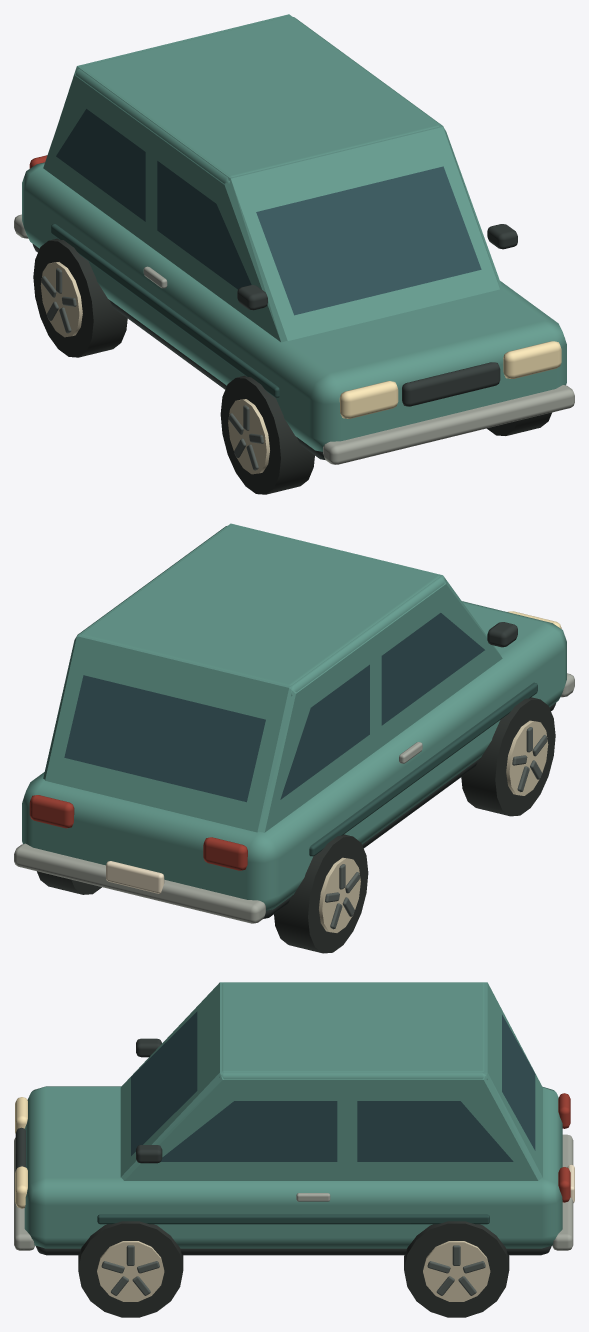
File: vehicle-hatchback.glb
3 renders of one model, top to bottom at view 1: azimuth 30°, elevation 25°; view 2: azimuth 150°, elevation 25°; view 3: azimuth 270°, elevation 25°, orthographic. The views are drawn at different scales.
Visible parts, largest first — view 1: Harbor vehicle hatchback, wheel--1-1, wheel--1--1, wheel-1-1; view 2: Harbor vehicle hatchback, wheel--1--1, wheel--1-1, wheel-1--1; view 3: Harbor vehicle hatchback, wheel-1-1, wheel-1--1.
Boxes of the visible parts, x1,y1,x2,y2 form: Harbor vehicle hatchback: [14, 14, 574, 464]; wheel--1-1: [220, 375, 314, 494]; wheel--1--1: [33, 238, 127, 357]; wheel-1-1: [487, 412, 552, 435]; Harbor vehicle hatchback: [14, 523, 574, 923]; wheel--1--1: [274, 834, 368, 953]; wheel--1-1: [461, 697, 555, 816]; wheel-1--1: [37, 871, 101, 894]; Harbor vehicle hatchback: [14, 982, 574, 1255]; wheel-1-1: [78, 1221, 183, 1317]; wheel-1--1: [404, 1221, 509, 1317].
Bounding box in the file's own units: 1.87 × 1.66 × 3.63.
